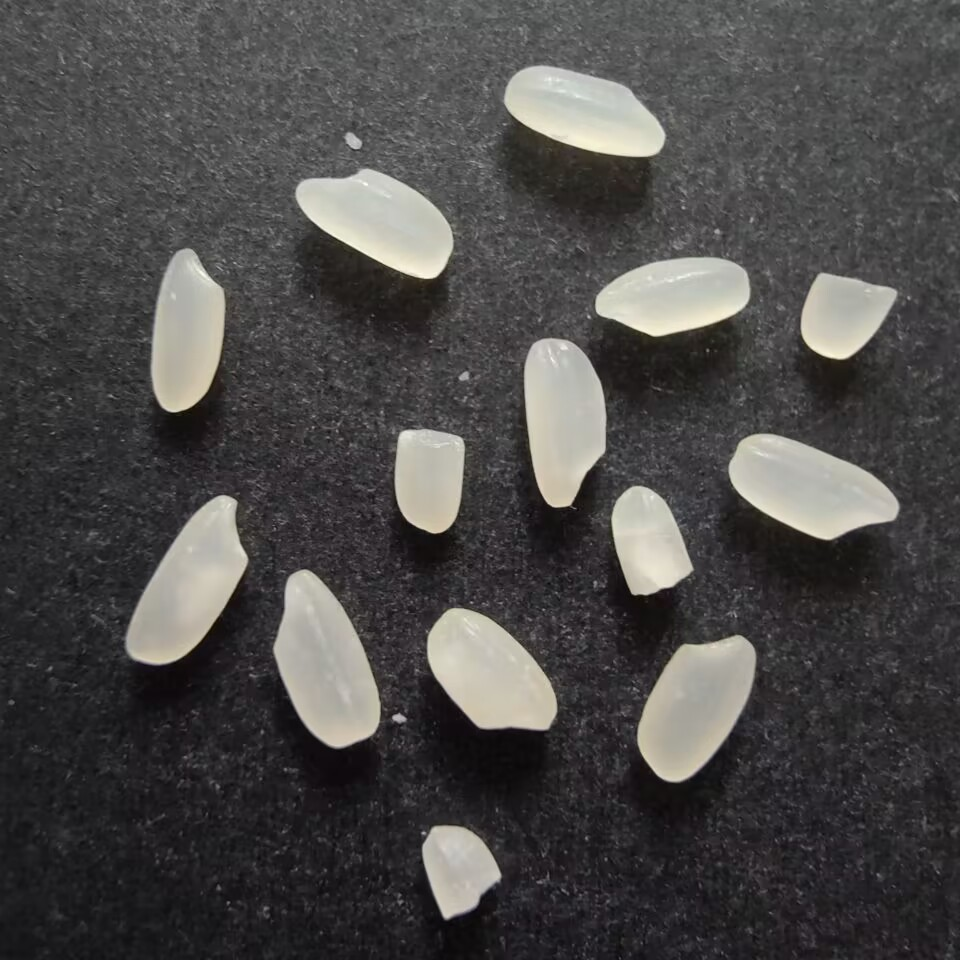broken: (608, 481, 699, 598), (794, 266, 900, 363), (419, 817, 504, 926), (388, 425, 467, 541)
rice: (122, 489, 249, 668), (266, 569, 386, 752), (726, 430, 907, 548), (634, 632, 761, 790), (291, 162, 454, 282), (425, 603, 560, 738), (499, 59, 669, 162), (521, 331, 614, 512), (145, 244, 234, 414), (589, 253, 755, 340)
